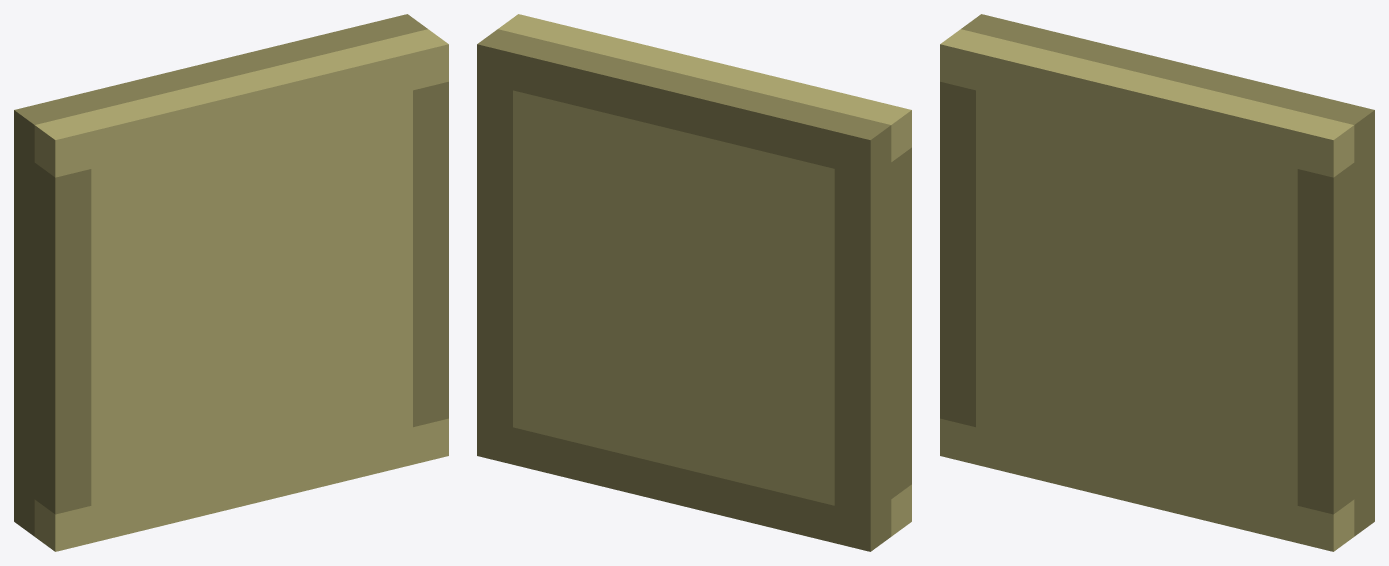
File: campana_servicio_laton_01.glb
The picture shows the model from 3 angles, left to right: view 1: azimuth 30°, elevation 25°; view 2: azimuth 150°, elevation 25°; view 3: azimuth 330°, elevation 25°; orthographic projection.
Parts seen in each view (by area): view 1: campana_servicio_laton; view 2: campana_servicio_laton; view 3: campana_servicio_laton.
Part boxes in pixels (bbox=[...]): campana_servicio_laton: bbox=[14, 14, 448, 551]; campana_servicio_laton: bbox=[477, 14, 911, 551]; campana_servicio_laton: bbox=[940, 14, 1374, 551].
Size of the model in its own units: 1 by 1 by 0.1818.
